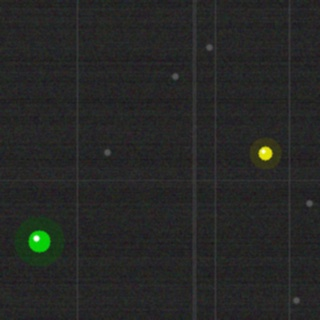green_normal: (26, 228, 52, 254)
yellow_warning: (256, 144, 274, 162)
